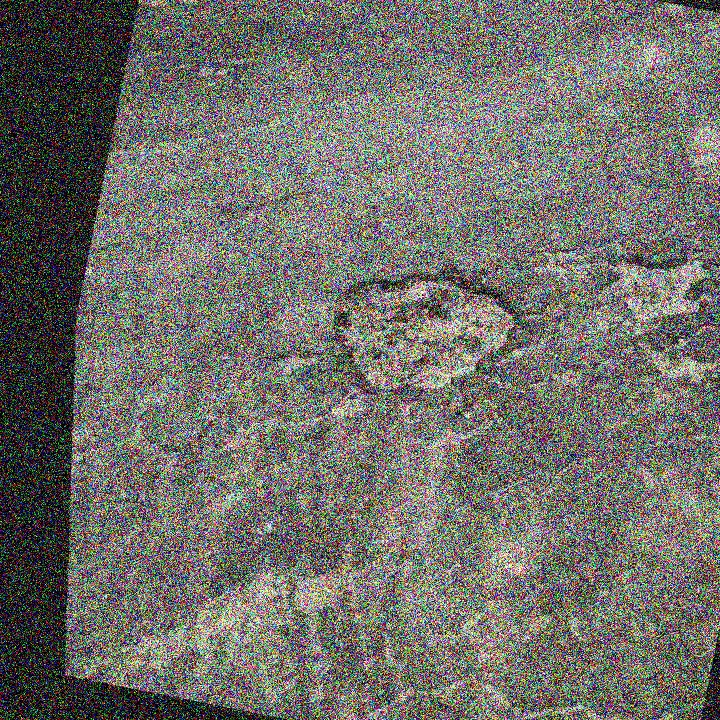pothole: (311, 229, 545, 430), (592, 226, 720, 342)
